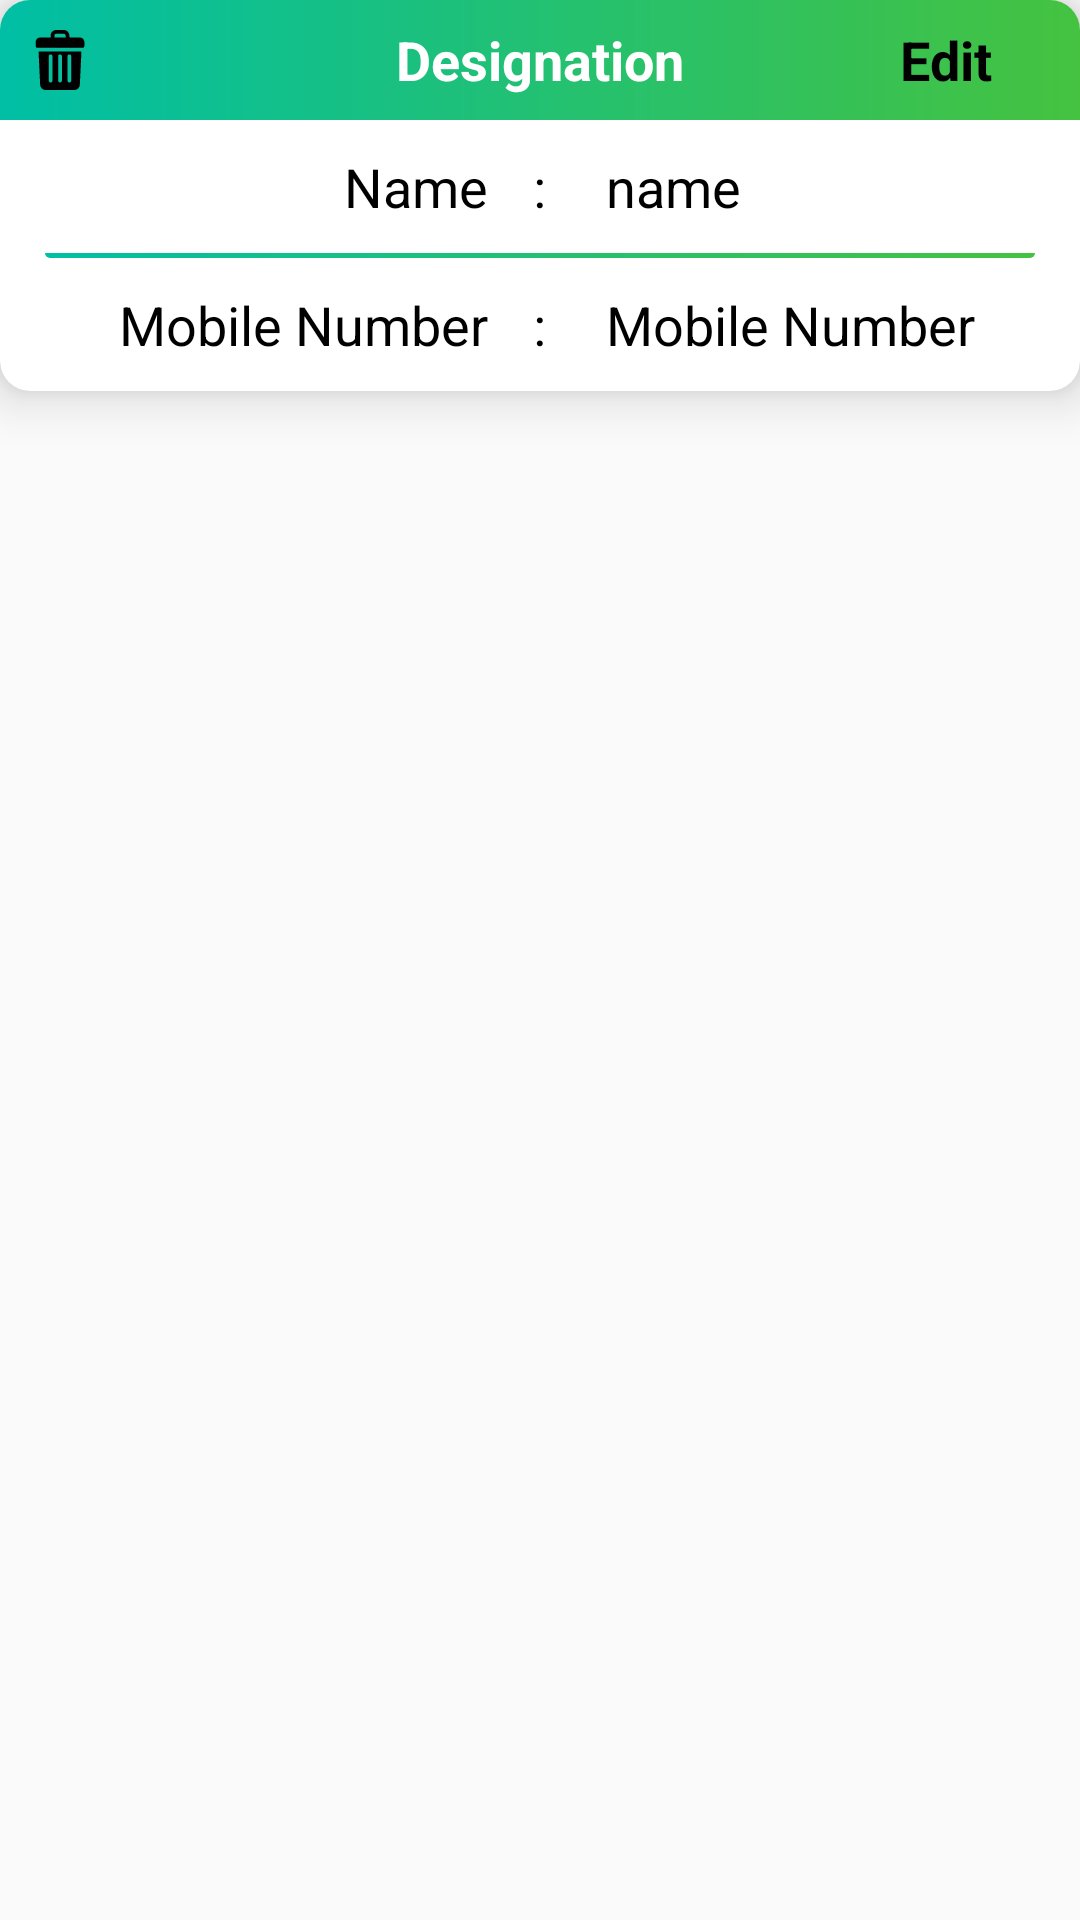

Icon bounding boxes for this 1080*1920 phone screenshot, format (x1, y1, x2, y2):
trash: (35, 30, 85, 90)
